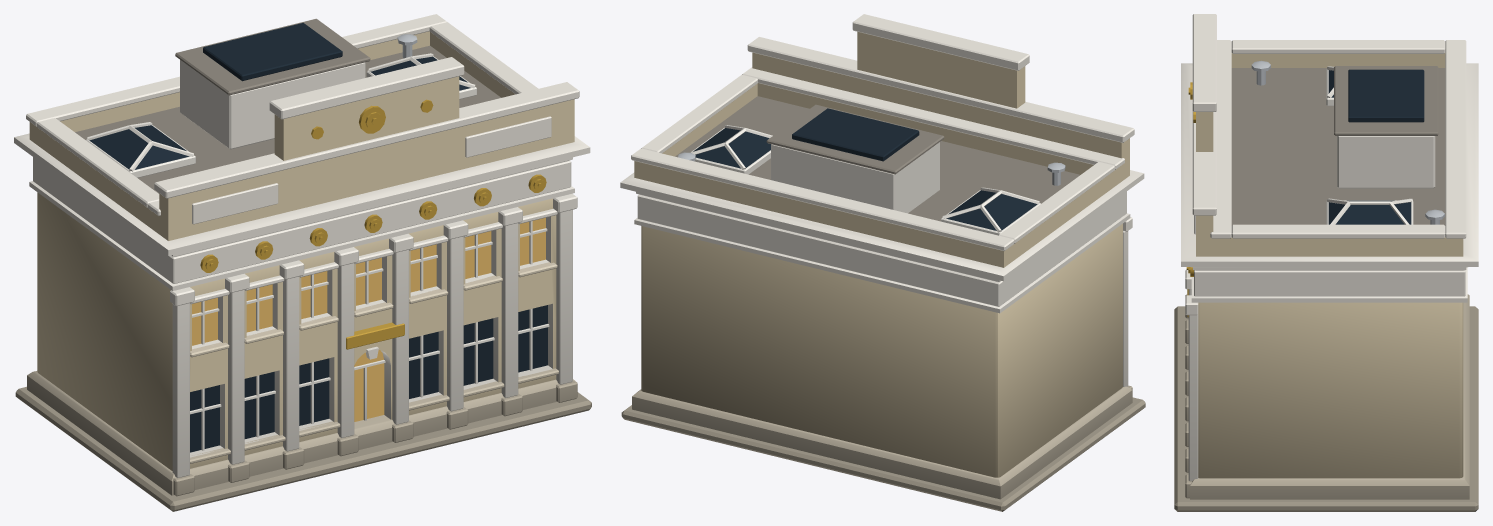
Rendered from bh_buckstaff.glb.
The picture shows the model from 3 angles, left to right: view 1: azimuth 30°, elevation 25°; view 2: azimuth 150°, elevation 25°; view 3: azimuth 270°, elevation 25°; orthographic projection. The views are drawn at different scales.
Parts seen in each view (by area): view 1: bh_buckstaff; view 2: bh_buckstaff; view 3: bh_buckstaff.
Boxes of the visible parts, x1=… form: bh_buckstaff: x1=14, y1=14, x2=591, y2=511; bh_buckstaff: x1=620, y1=14, x2=1145, y2=511; bh_buckstaff: x1=1174, y1=14, x2=1478, y2=511.
Bounding box in the file's own units: 0.0216 × 0.018 × 0.014.
